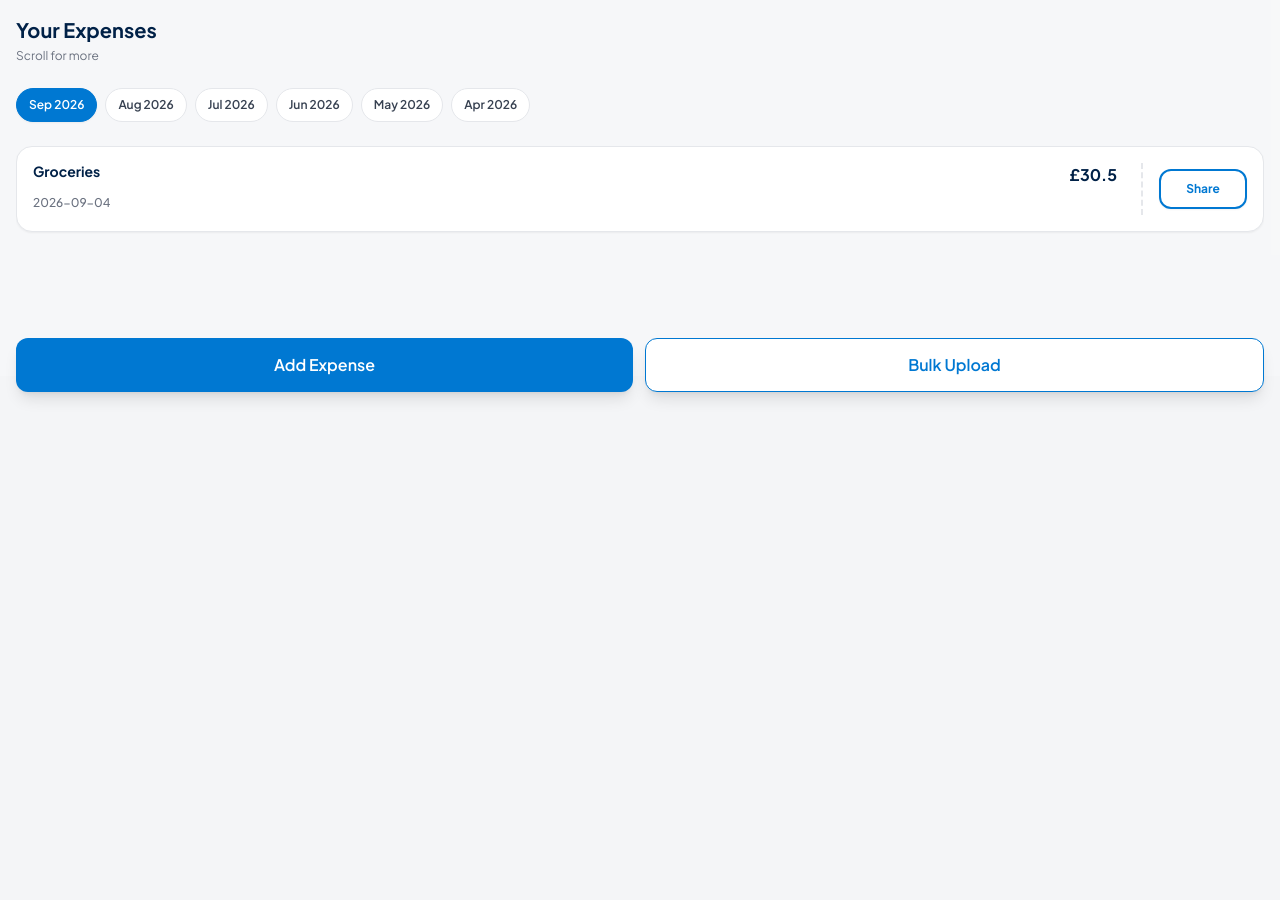
ExpensesHome month filters › preselects the only group and equal splits for every member when sharing an expense
Check: the text "Groceries" is shown, box [33,163,100,180]
Click the button "Share": {"x": 1203, "y": 189} [1159,169,1247,209]
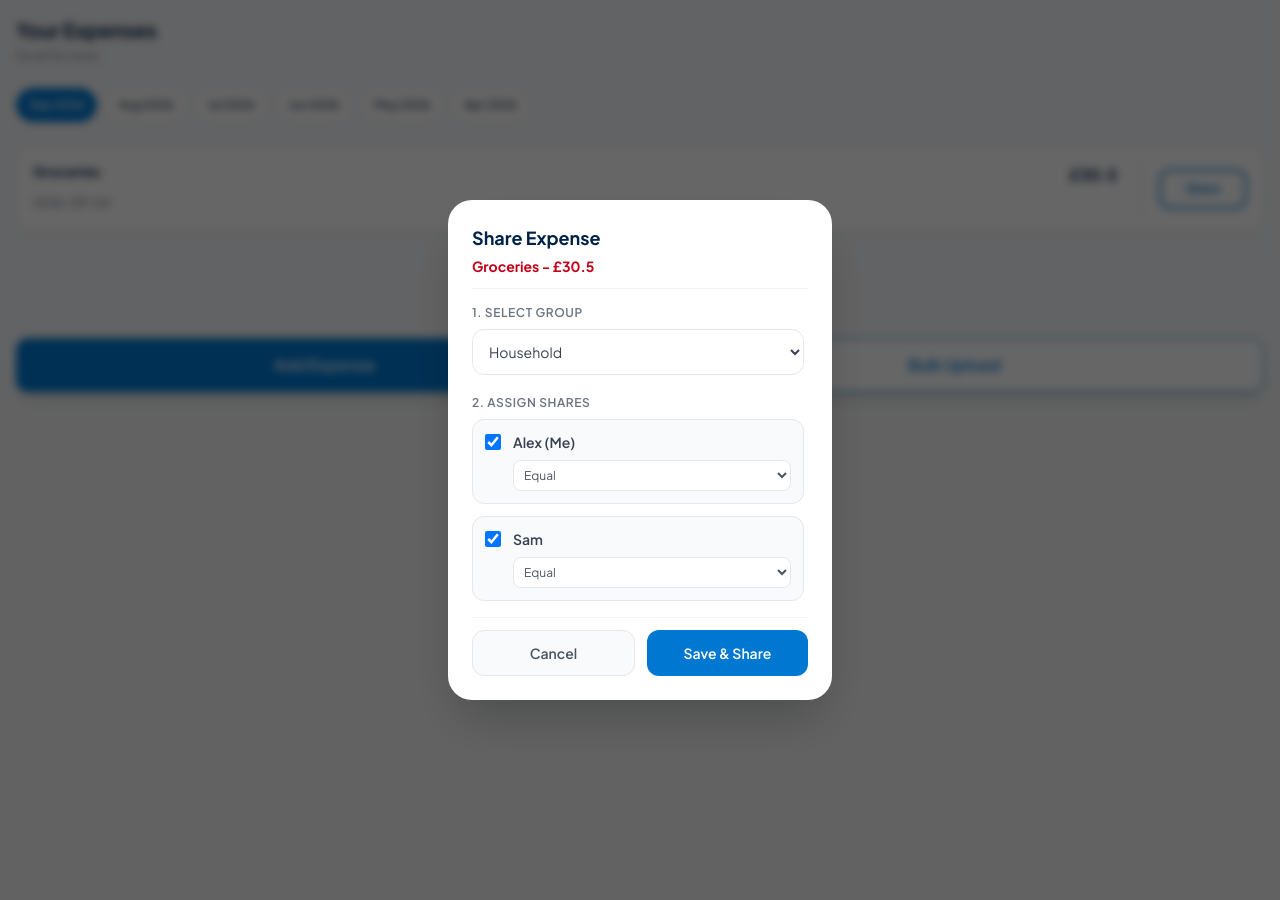
Check: the 1st dropdown shows "Household", box [472,329,804,375]
Check: the checkbox labelled "Alex (Me)" is checked, box [485,434,501,450]
Check: the checkbox labelled "Sam" is checked, box [485,531,501,547]
